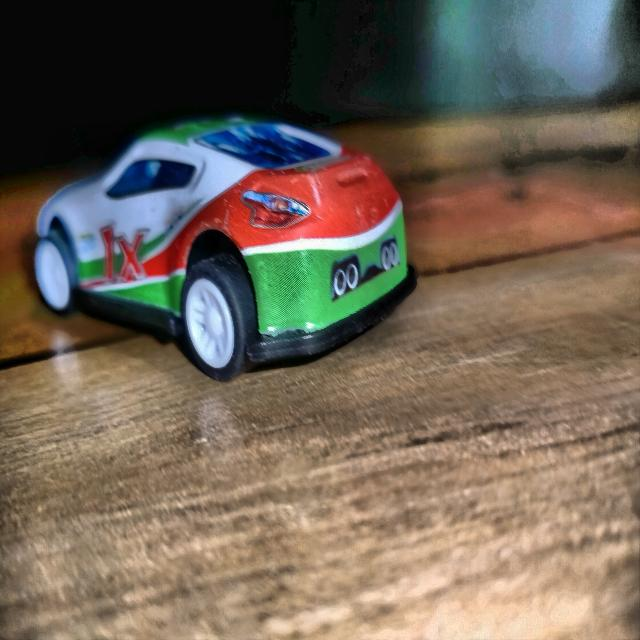Car: (35, 118, 415, 381)
